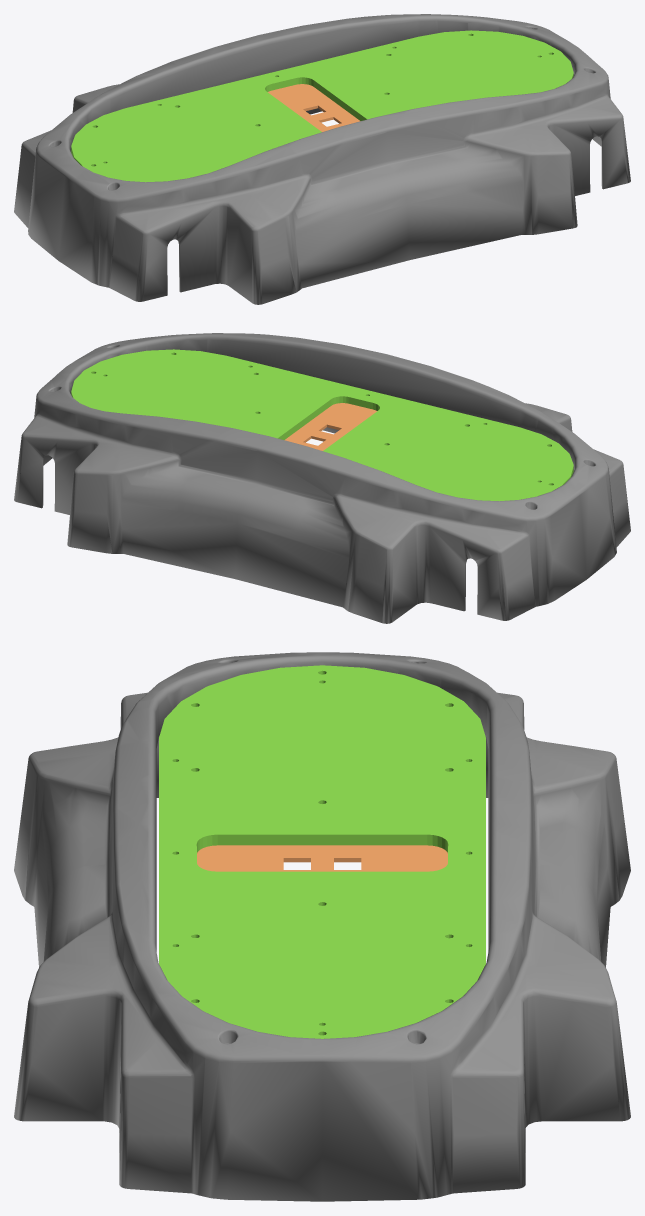
3 views of the same model, one above another, from view 1: azimuth 30°, elevation 25°; view 2: azimuth 150°, elevation 25°; view 3: azimuth 270°, elevation 25° (orthographic). The views are drawn at different scales.
Visible parts, largest first — view 1: Frame_004; view 2: Frame_004; view 3: Frame_004.
Boxes of the visible parts, bbox=[...] form: Frame_004: bbox=[14, 14, 630, 304]; Frame_004: bbox=[14, 333, 630, 623]; Frame_004: bbox=[14, 652, 630, 1201].
Size of the model in its own units: 0.5701 by 0.3571 by 0.122.
